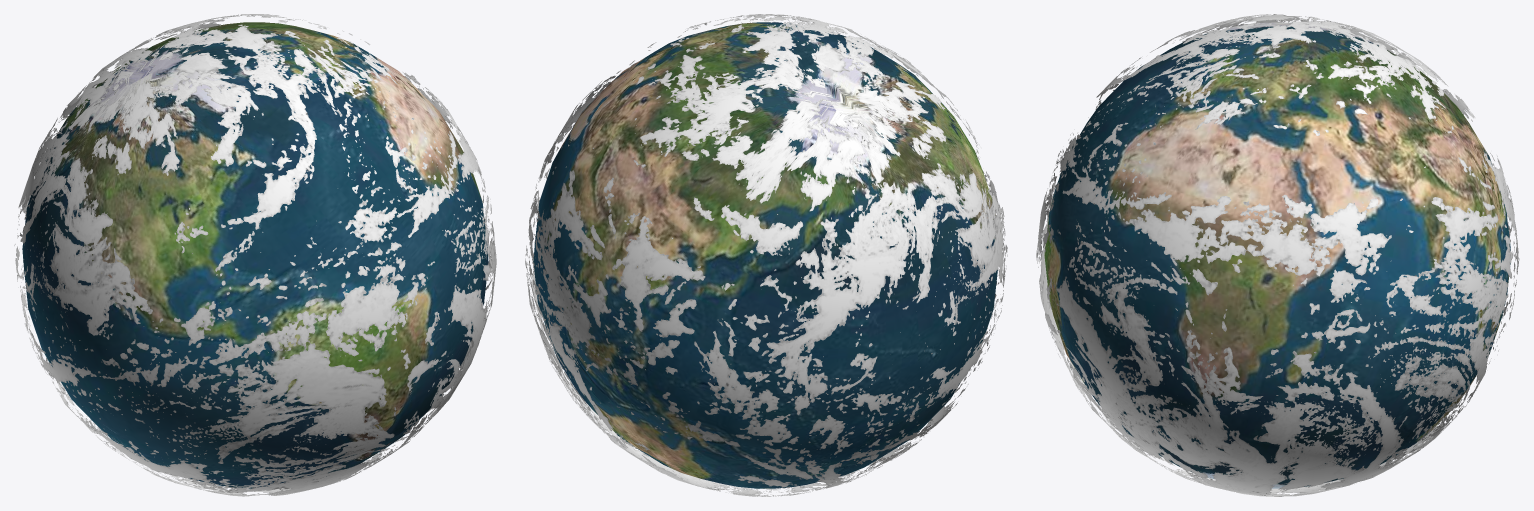
3 renders of one model, left to right at view 1: azimuth 30°, elevation 25°; view 2: azimuth 150°, elevation 25°; view 3: azimuth 270°, elevation 25°, orthographic.
Visible parts, largest first — view 1: Sphere.001, Sphere; view 2: Sphere.001, Sphere; view 3: Sphere.001, Sphere.
Boxes of the visible parts, <box> form: Sphere.001: <box>22,22,488,488</box>; Sphere: <box>14,14,496,496</box>; Sphere.001: <box>533,22,997,488</box>; Sphere: <box>525,14,1007,496</box>; Sphere.001: <box>1044,22,1510,488</box>; Sphere: <box>1036,14,1519,496</box>.
Size of the model in its own units: 1.95 by 1.95 by 1.95.
Materials: 2 (2 with a texture image).
